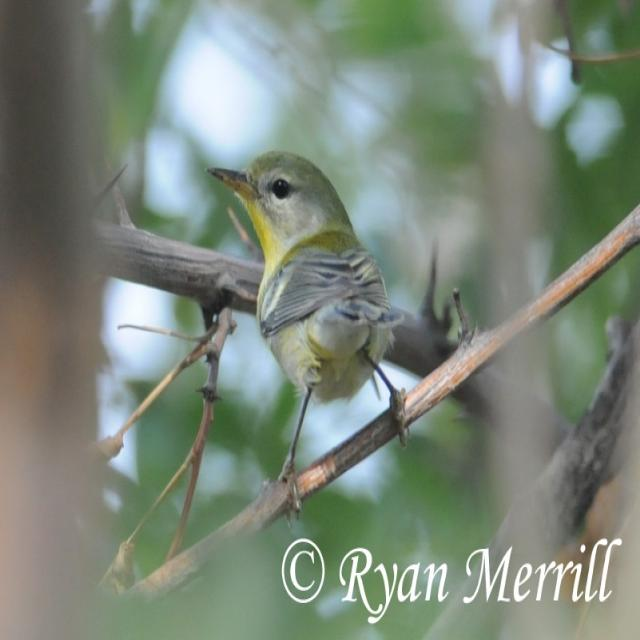bird: (204, 148, 411, 502)
